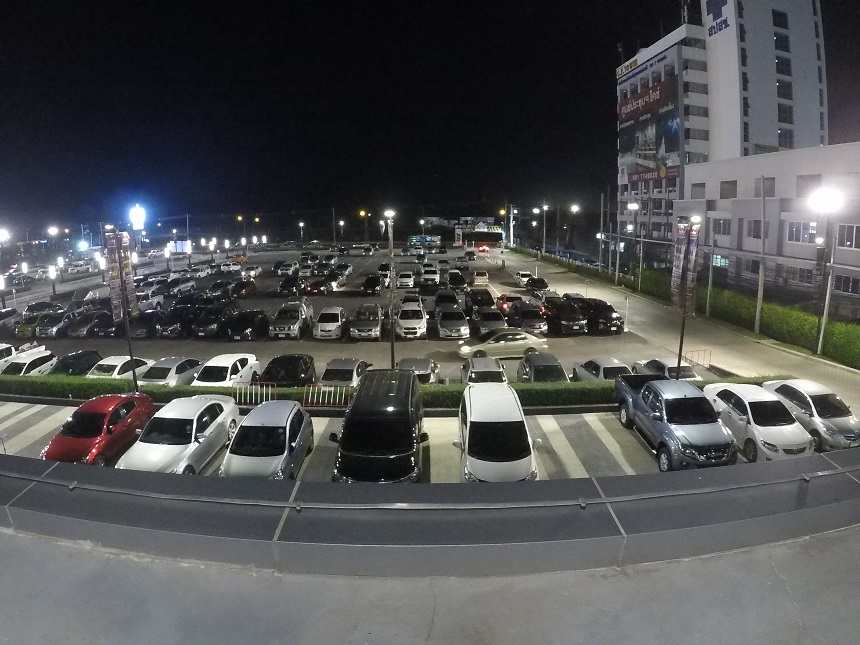busy: (329, 423, 429, 479), (457, 426, 543, 477), (54, 411, 121, 459), (138, 419, 206, 466), (229, 425, 297, 471), (653, 410, 727, 452), (814, 400, 860, 439), (754, 420, 800, 453), (263, 355, 308, 384), (209, 358, 251, 386), (151, 359, 195, 383), (325, 359, 363, 386), (523, 355, 561, 381), (309, 313, 345, 339), (514, 311, 550, 336), (390, 314, 426, 339), (267, 317, 305, 340), (463, 359, 502, 381), (402, 357, 436, 381), (434, 315, 471, 337), (557, 314, 592, 337), (350, 315, 382, 340), (102, 358, 136, 378), (64, 357, 97, 377), (590, 358, 621, 378), (22, 352, 54, 371), (477, 317, 509, 336), (157, 318, 188, 337), (192, 319, 221, 338), (652, 357, 686, 373), (229, 321, 259, 338), (95, 317, 121, 335), (596, 313, 622, 330), (37, 320, 61, 338), (126, 320, 149, 337), (70, 323, 89, 340), (1, 345, 18, 361), (1, 313, 14, 331), (18, 325, 32, 338)
